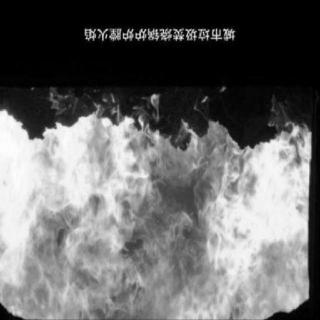Fire: (2, 86, 316, 320)
